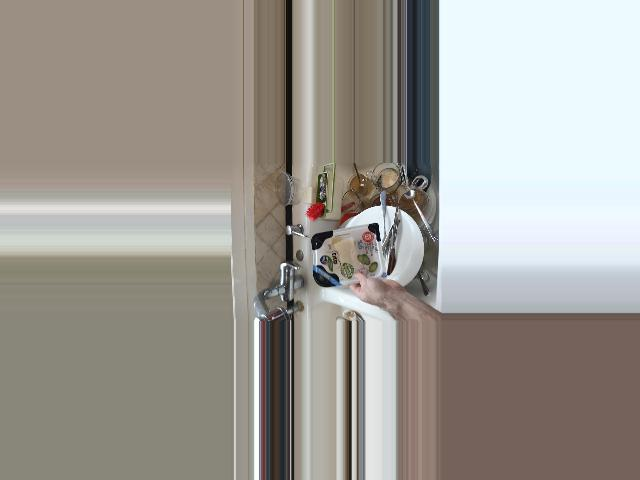cheese: (306, 225, 397, 305)
